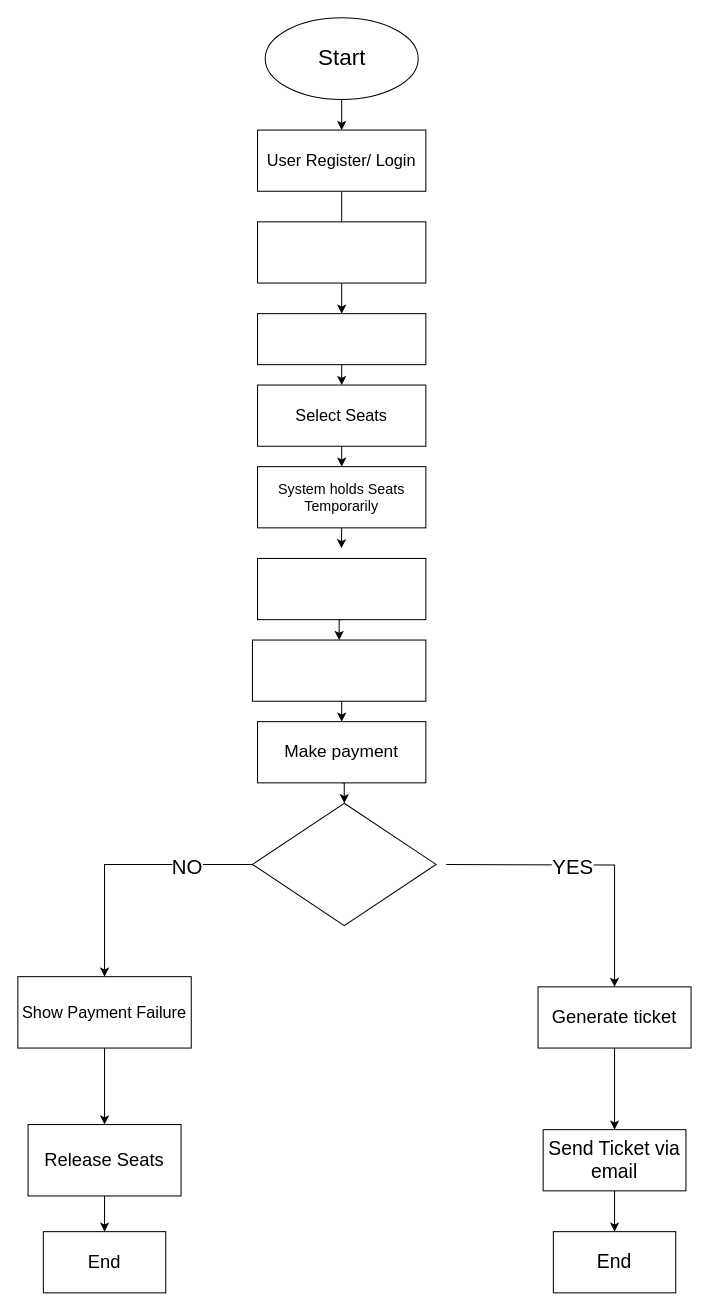
The diagram is 709 pixels wide and 1311 high, and some of its shapes have lost their labels. Each missing label, with the centre of its shape:
Add to Cart: pixel 341 588
Apply to coupon: pixel 338 670
Payment Successful: pixel 343 864
Search Events: pixel 341 252
View Event Details: pixel 341 339
